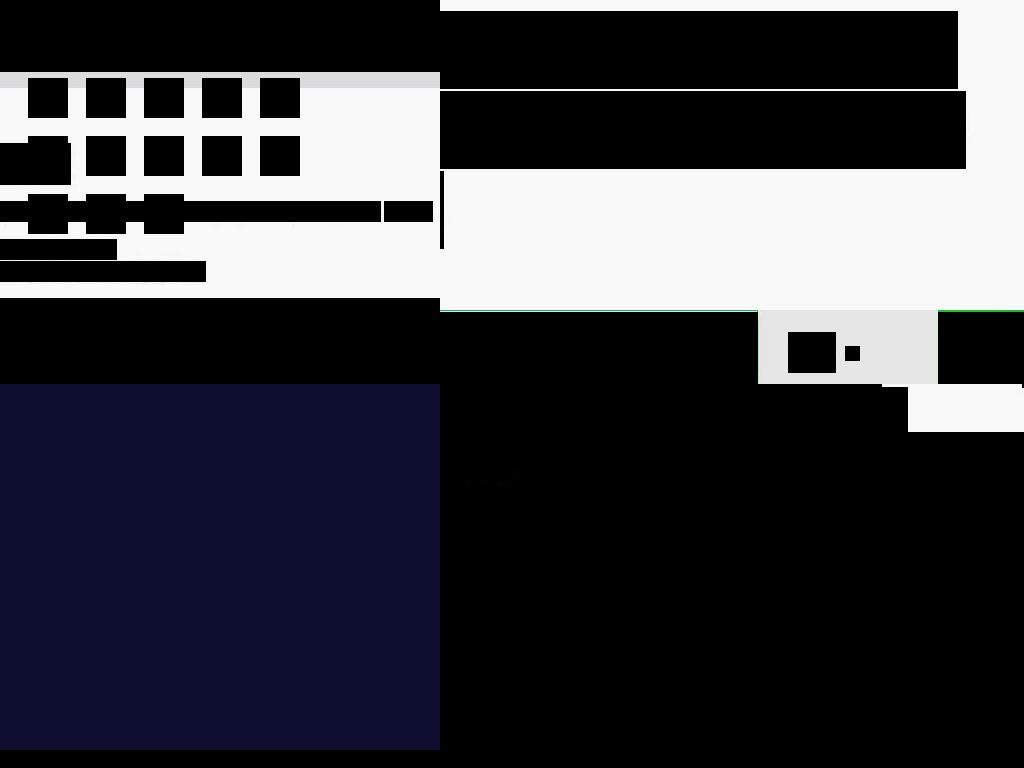button: (440, 503, 1024, 768), (938, 312, 1024, 384), (608, 451, 706, 476), (524, 451, 609, 476), (705, 451, 788, 476), (787, 451, 868, 476), (28, 20, 68, 60), (86, 20, 126, 60), (144, 20, 184, 60), (202, 20, 242, 60), (260, 20, 300, 60), (28, 78, 68, 118), (86, 78, 126, 118), (144, 78, 184, 118), (202, 78, 242, 118), (260, 78, 300, 118), (28, 136, 68, 176), (86, 136, 126, 176), (144, 136, 184, 176), (202, 136, 242, 176), (260, 136, 300, 176), (28, 194, 68, 234), (86, 194, 126, 234), (144, 194, 184, 234)
field: (440, 312, 758, 384)
heading: (656, 11, 939, 89), (572, 91, 789, 169), (440, 11, 623, 89), (787, 91, 966, 169), (440, 683, 764, 720), (440, 739, 764, 768), (0, 750, 440, 768), (440, 91, 537, 169), (504, 399, 716, 423), (621, 11, 657, 89), (537, 91, 573, 169), (440, 399, 505, 423), (939, 11, 958, 89)
image: (0, 298, 440, 384), (440, 387, 908, 457), (0, 0, 440, 72), (440, 451, 514, 481), (845, 346, 860, 361)
link: (0, 143, 71, 185), (123, 261, 202, 282), (505, 384, 596, 395), (384, 201, 429, 222), (343, 201, 381, 222), (30, 239, 63, 260), (184, 201, 213, 222), (0, 261, 15, 282)
text: (440, 384, 875, 416), (440, 422, 876, 442), (0, 201, 184, 222), (213, 201, 343, 222), (15, 261, 123, 282), (788, 332, 836, 373), (615, 451, 685, 476), (531, 451, 588, 476), (712, 451, 767, 476), (794, 451, 847, 476), (63, 239, 117, 260), (0, 239, 30, 260), (429, 201, 433, 222), (202, 261, 206, 282)
